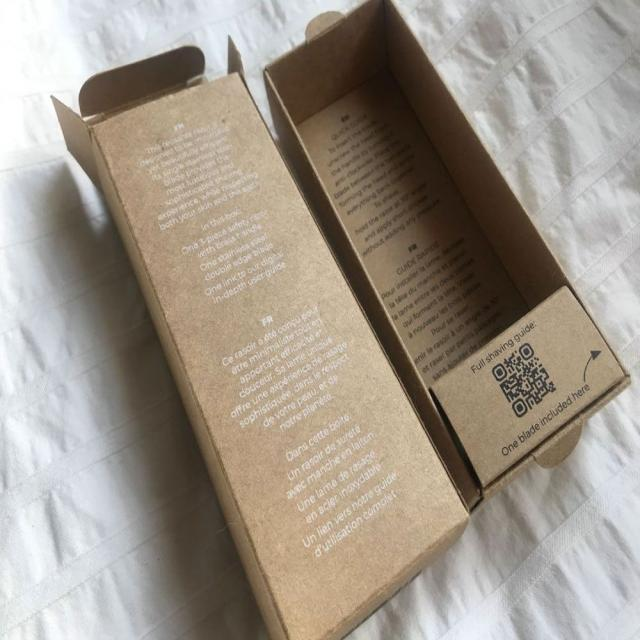cardboard: (51, 35, 463, 640), (266, 6, 625, 498)
